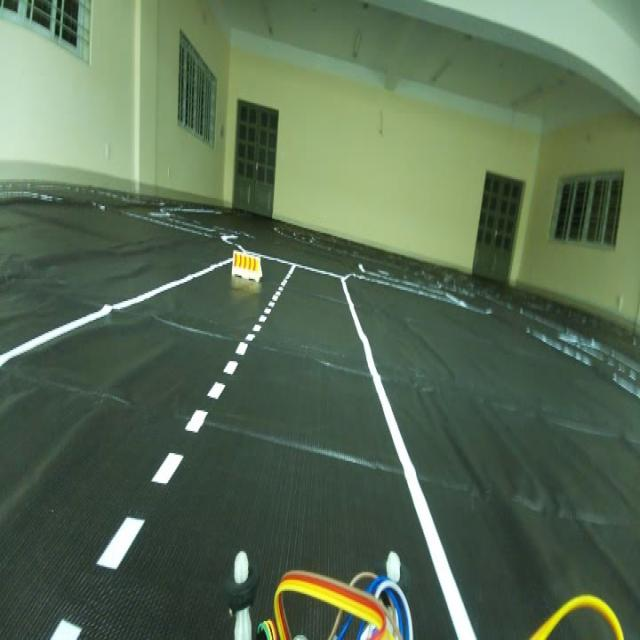roadblock: (229, 247, 263, 285)
